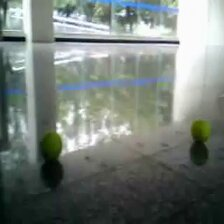tennis: (40, 132, 62, 158), (191, 118, 210, 141)
